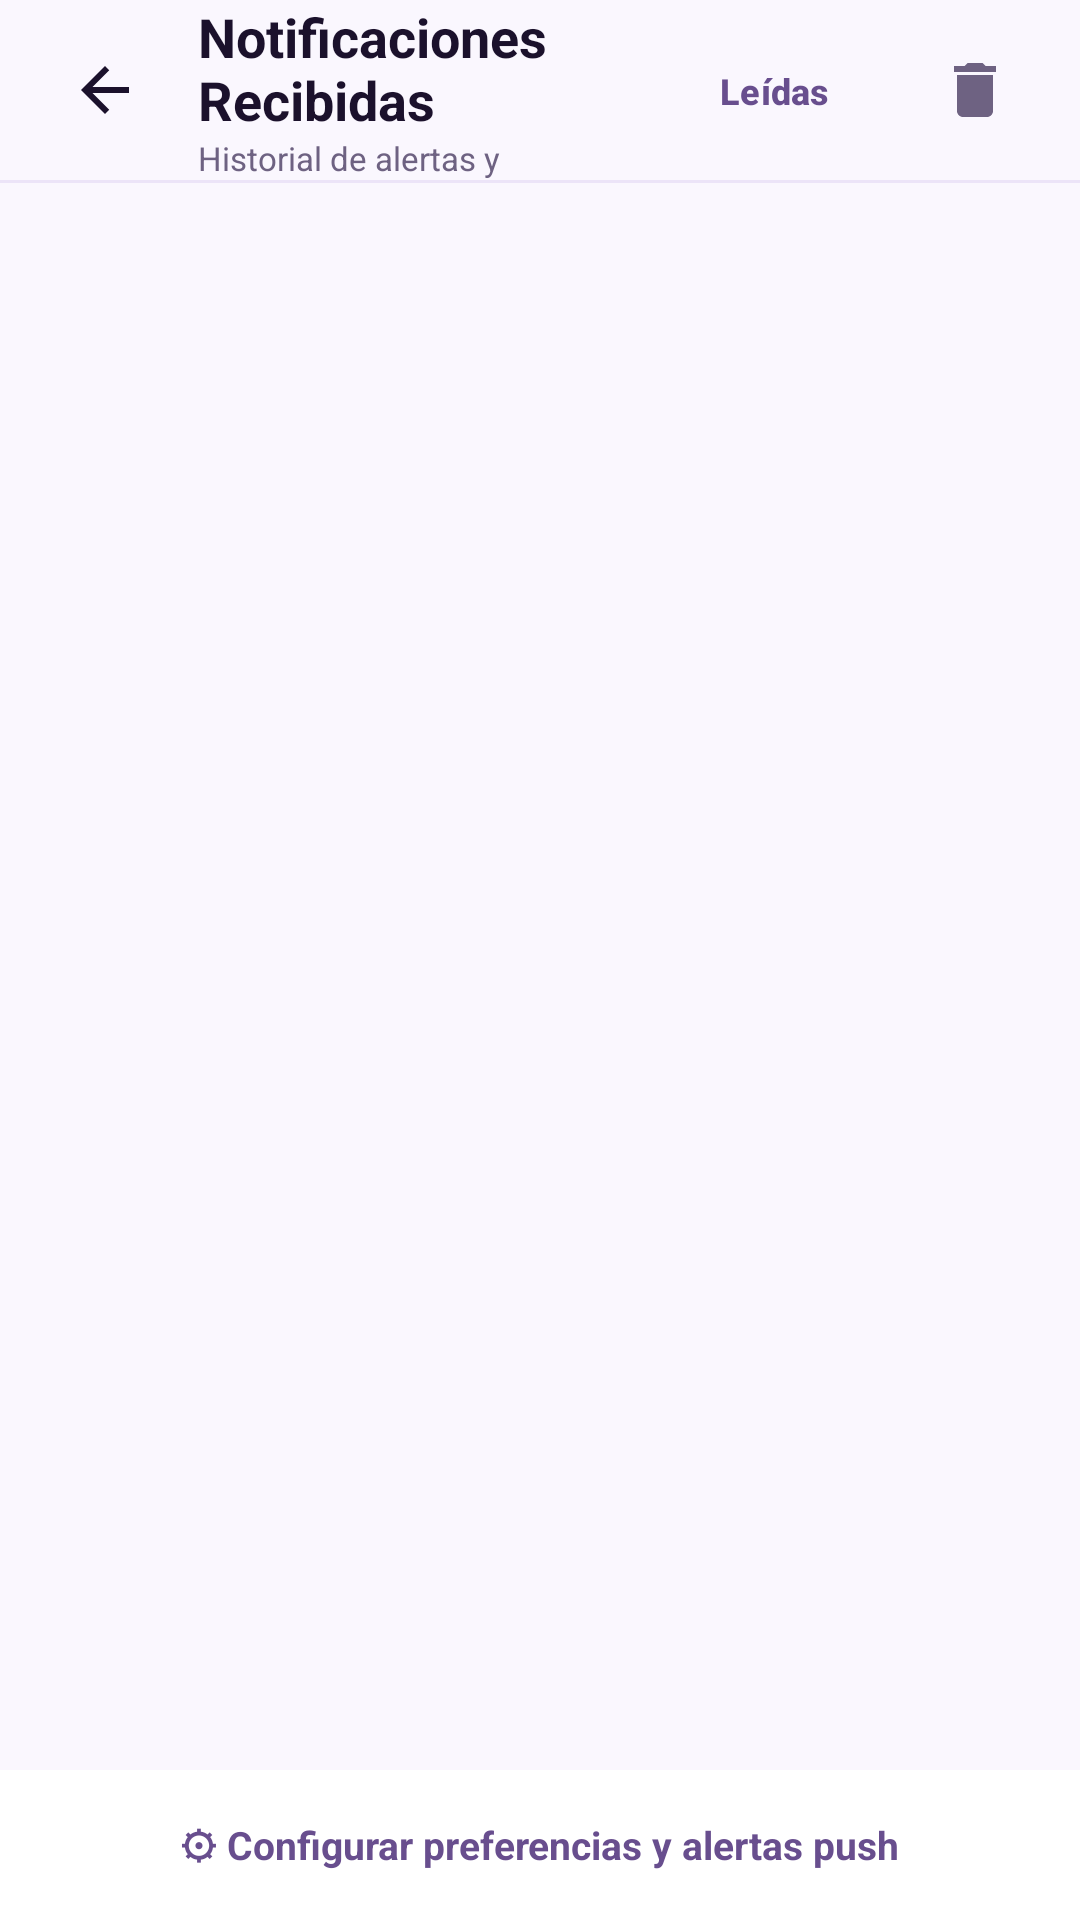

Locate icon controls on the screen. Image size 1080x1920, boxes as box(x1, y1, x2, y2).
Limpiar: box(954, 63, 996, 117)
Volver: box(81, 66, 129, 114)
